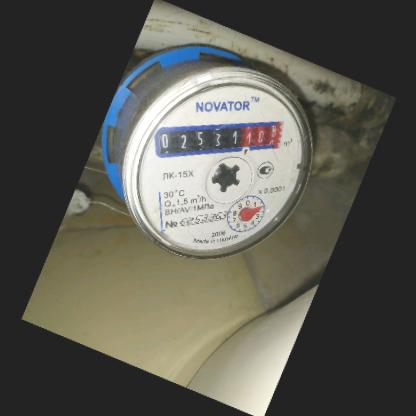digital_screen: (152, 115, 242, 162)
